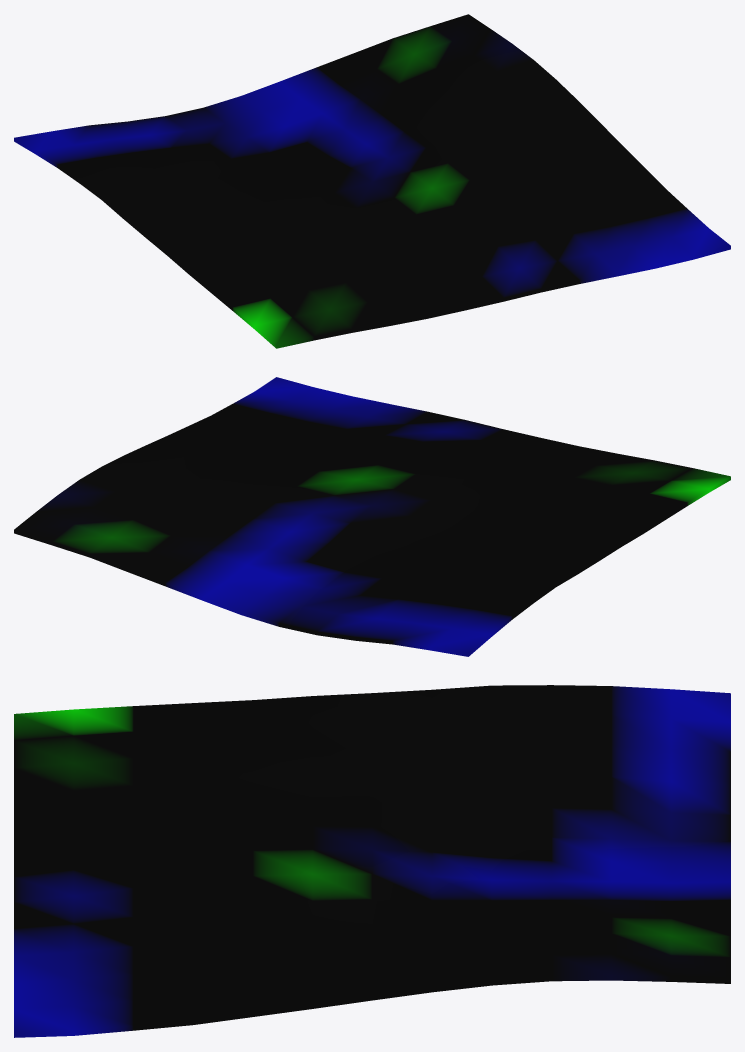
Rendered from coast_15_1.glb.
The picture shows the model from 3 angles, top to bottom: view 1: azimuth 30°, elevation 25°; view 2: azimuth 150°, elevation 25°; view 3: azimuth 270°, elevation 25°; orthographic projection. The views are drawn at different scales.
Visible parts, largest first — view 1: terrain; view 2: terrain; view 3: terrain.
Boxes of the visible parts, x1,y1,x2,y2 form: terrain: (14,14,730,348); terrain: (14,377,730,656); terrain: (14,685,730,1037).
Bounding box in the file's own units: 192 × 18.89 × 192.
